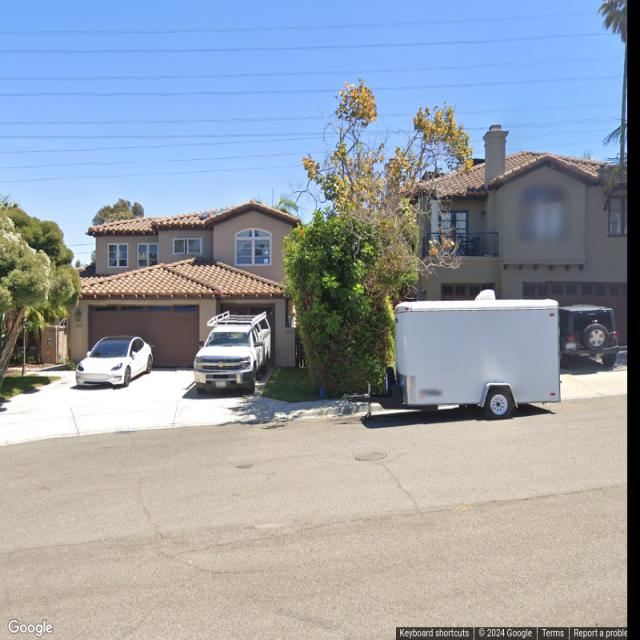House: (384, 124, 627, 358), (64, 198, 307, 368)
